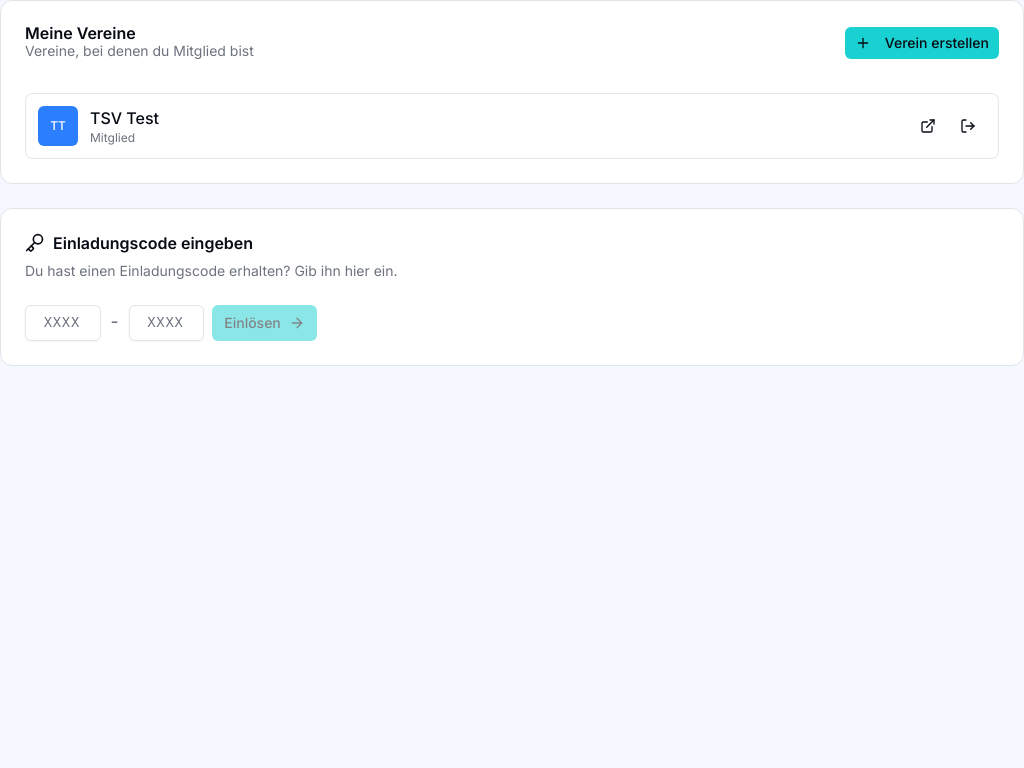
Test case: MyClubsPage › leave club › disables confirm button until VERLASSEN is typed
Step 1. Click the button titled "Verein verlassen" → (968, 126), box [950,108,986,144]
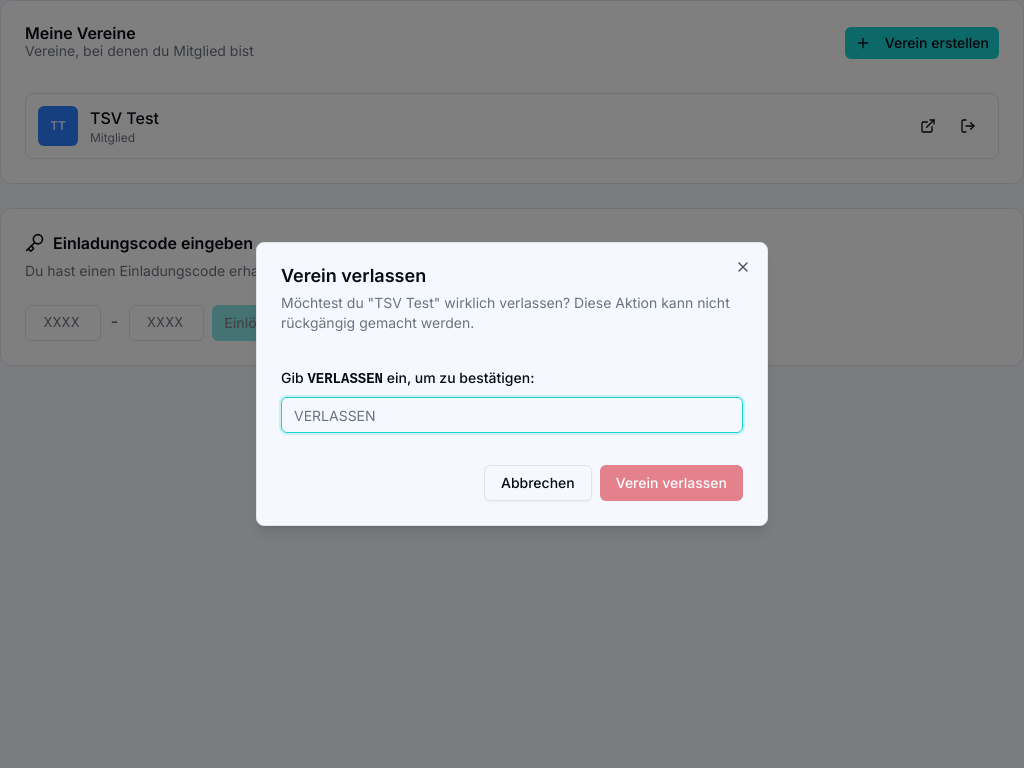
Check: the button "Verein verlassen" is disabled, box [600,465,743,501]
Type partial text - still disabled
Step 2. Type "VERLA" into the field with placeholder "VERLASSEN" → (512, 415), box [281,397,743,433]
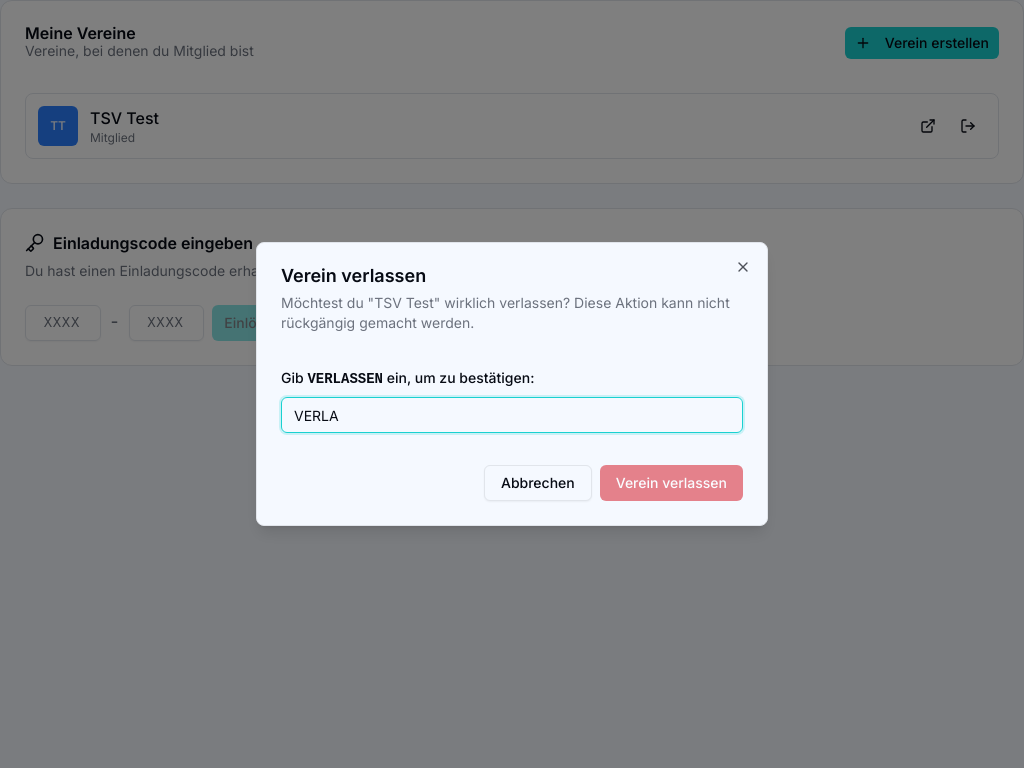
Check: the button "Verein verlassen" is disabled, box [600,465,743,501]
Complete the word - should be enabled
Step 3. Type "SSEN" into the field with placeholder "VERLASSEN" → (512, 415), box [281,397,743,433]
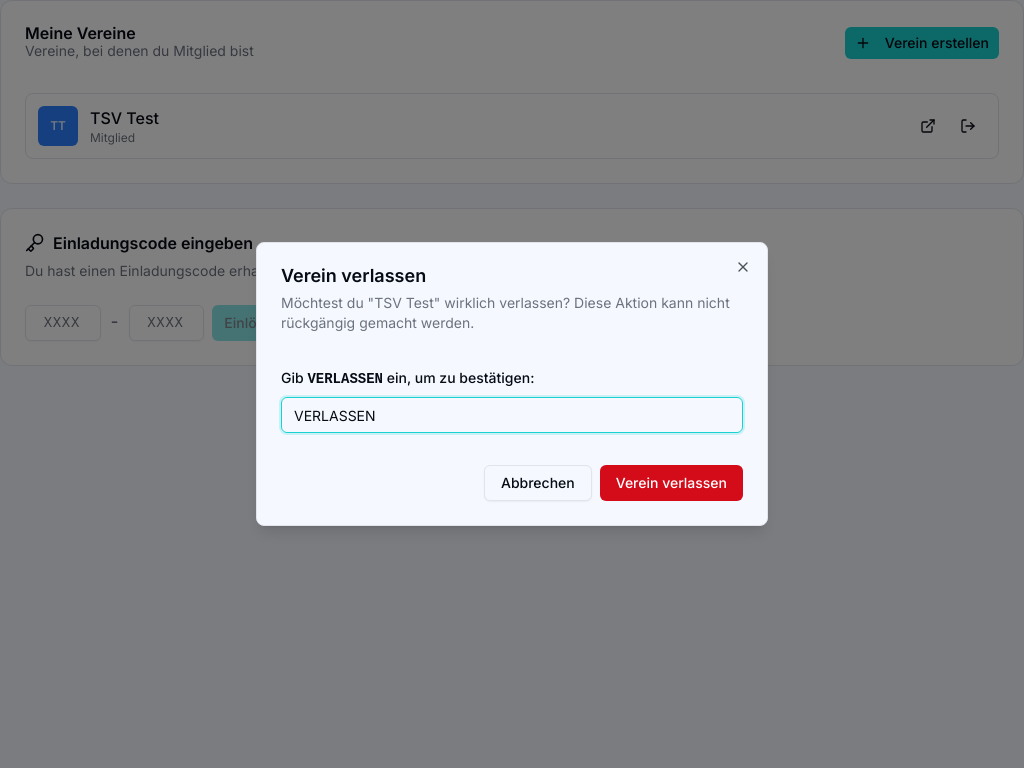
Check: the button "Verein verlassen" is enabled, box [600,465,743,501]
